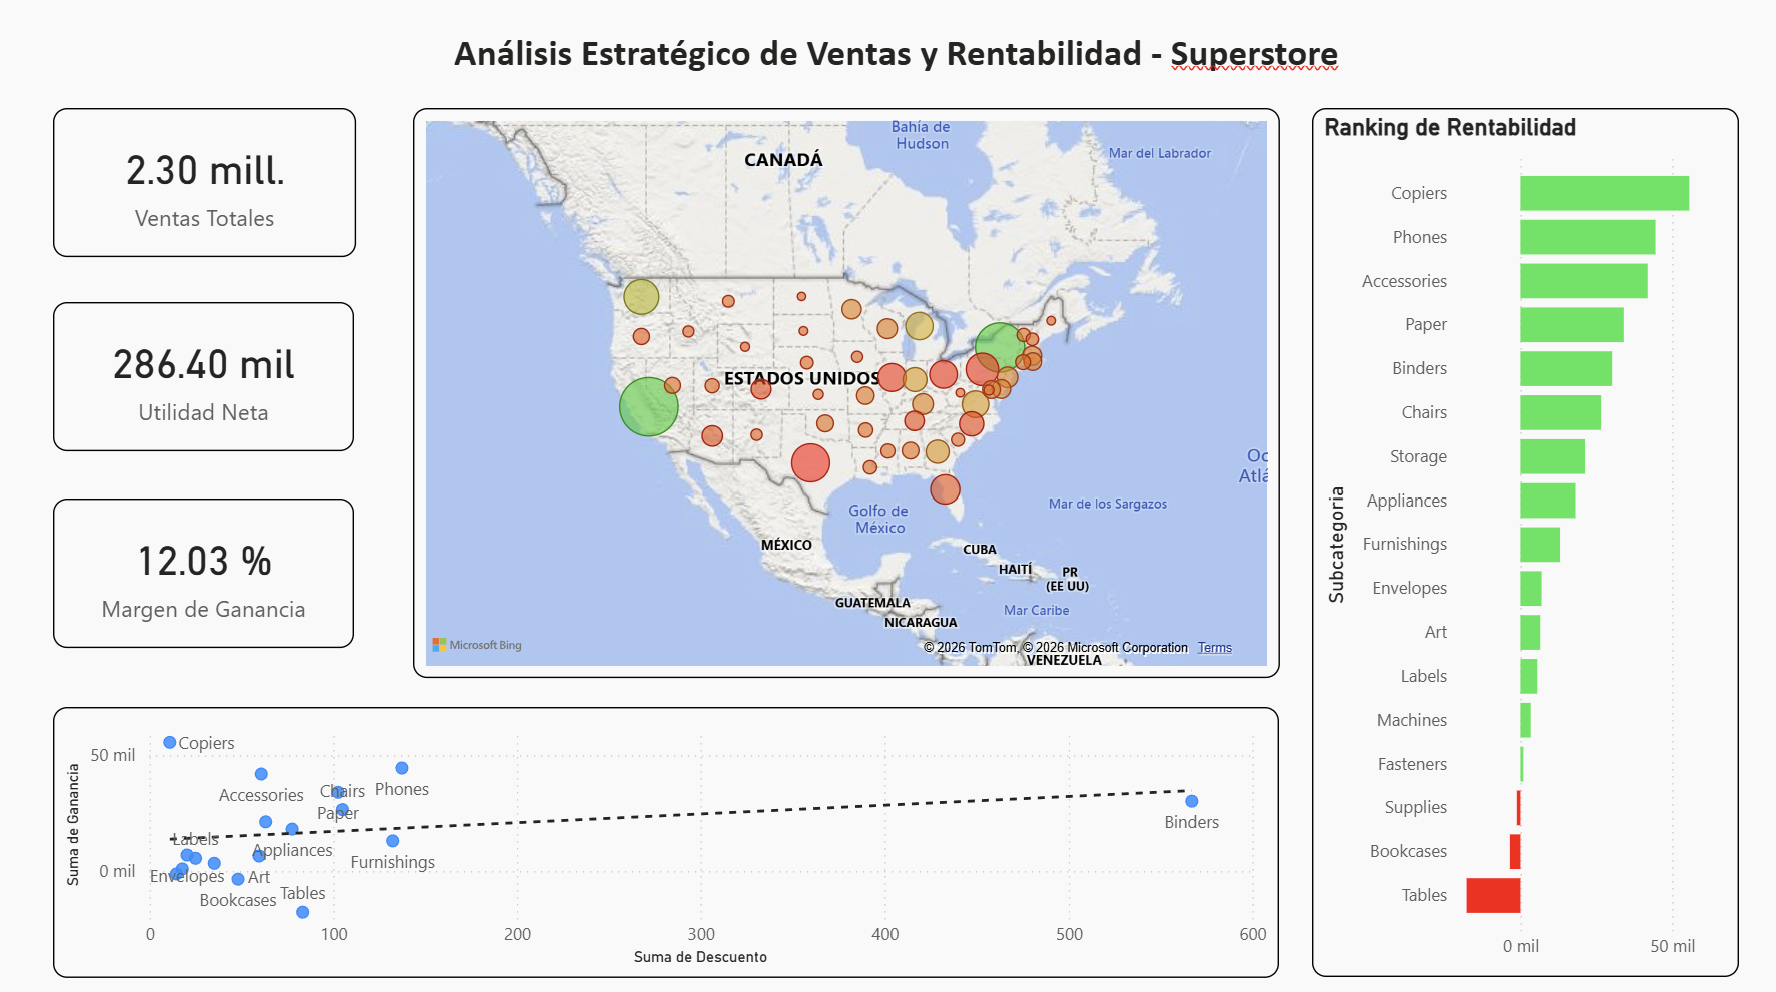

This screenshot's page, from the dashboard's own definition file:
{"tool":"powerbi","page":{"name":"Página 1","canvas":[1280,720],"ordinal":0},"visuals":[{"type":"card","fields":{"Values":["Sum(Superstore_Limpio.Ventas)"]},"box":[45,81.7,216.7,106.7],"z":0},{"type":"card","fields":{"Values":["Sum(Superstore_Limpio.Ganancia)"]},"box":[45,220,215,106.7],"z":1000},{"type":"scatterChart","fields":{"X":["Sum(Superstore_Limpio.Descuento)"],"Y":["Sum(Superstore_Limpio.Ganancia)"],"Category":["Superstore_Limpio.Subcategoria"]},"box":[45,508.3,875,193.3],"z":2000},{"type":"map","fields":{"Category":["Superstore_Limpio.Estado"],"Size":["Sum(Superstore_Limpio.Ventas)"]},"box":[300.8,81.7,618.3,406.7],"z":3000},{"type":"clusteredBarChart","title":"Ranking de Rentabilidad","fields":{"Category":["Superstore_Limpio.Subcategoria"],"Y":["Sum(Superstore_Limpio.Ganancia)"]},"box":[943.3,81.7,305,620],"z":4000},{"type":"card","fields":{"Values":["Avg(Superstore_Limpio.Margen_Porcentaje)"]},"box":[45,360,215,106.7],"z":5000},{"type":"textbox","box":[44.3,20,1204.3,48.6],"z":5001}]}

Visuals, with their boxes in screenshot pixels (x1, y1, x2, y2), scaled from the page's 1280x720 canvas onto the 1776x992 screenshot:
card - Sum(Superstore_Limpio.Ventas): rect(62, 113, 363, 260)
card - Sum(Superstore_Limpio.Ganancia): rect(62, 303, 361, 450)
scatterChart - Sum(Superstore_Limpio.Descuento) x Sum(Superstore_Limpio.Ganancia): rect(62, 700, 1276, 967)
map - Superstore_Limpio.Estado x Sum(Superstore_Limpio.Ventas): rect(417, 113, 1275, 673)
"Ranking de Rentabilidad" clusteredBarChart: rect(1309, 113, 1732, 967)
card - Avg(Superstore_Limpio.Margen_Porcentaje): rect(62, 496, 361, 643)
textbox: rect(61, 28, 1732, 95)
